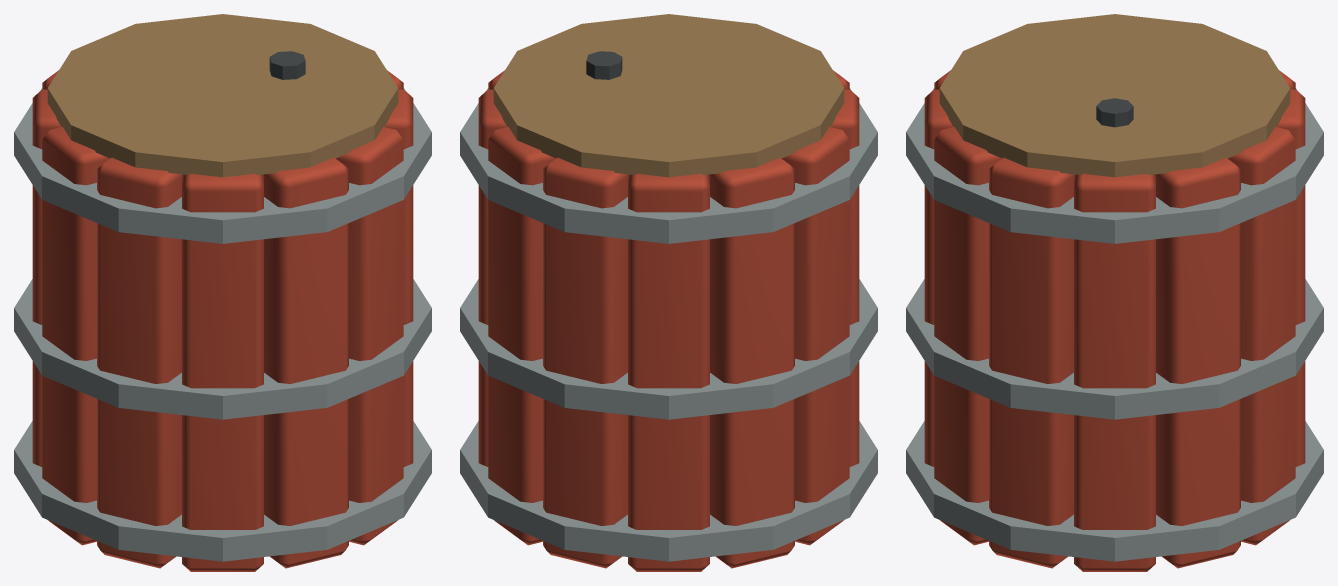
Rendered from prop_oil_barrel.glb.
3 renders of one model, left to right at view 1: azimuth 30°, elevation 25°; view 2: azimuth 150°, elevation 25°; view 3: azimuth 270°, elevation 25°, orthographic.
Parts seen in each view (by area): view 1: barrel lid, painted stave.007, painted stave.009, painted stave.008, painted stave.006, painted stave.010, iron hoop.002, iron hoop.001, iron hoop, painted stave.005, painted stave.011, bung; view 2: barrel lid, painted stave.003, painted stave.005, painted stave.004, painted stave.002, painted stave.006, iron hoop.002, iron hoop.001, iron hoop, painted stave.001, painted stave.007, bung; view 3: barrel lid, painted stave.001, painted stave.011, painted stave, painted stave.002, painted stave.010, iron hoop.002, iron hoop.001, iron hoop, painted stave.003, painted stave.009, bung.
Part boxes in pixels (x1=…): barrel lid: x1=47, y1=14, x2=398, y2=177; painted stave.007: x1=97, y1=157, x2=182, y2=568; painted stave.009: x1=263, y1=157, x2=348, y2=568; painted stave.008: x1=182, y1=173, x2=263, y2=571; painted stave.006: x1=42, y1=127, x2=109, y2=545; painted stave.010: x1=336, y1=127, x2=403, y2=545; iron hoop.002: x1=14, y1=88, x2=431, y2=243; iron hoop.001: x1=14, y1=279, x2=431, y2=419; iron hoop: x1=14, y1=421, x2=431, y2=561; painted stave.005: x1=32, y1=89, x2=61, y2=466; painted stave.011: x1=384, y1=89, x2=413, y2=466; bung: x1=269, y1=51, x2=305, y2=79; barrel lid: x1=493, y1=14, x2=844, y2=177; painted stave.003: x1=543, y1=157, x2=628, y2=568; painted stave.005: x1=709, y1=157, x2=794, y2=568; painted stave.004: x1=628, y1=173, x2=709, y2=571; painted stave.002: x1=488, y1=127, x2=555, y2=545; painted stave.006: x1=782, y1=127, x2=849, y2=545; iron hoop.002: x1=460, y1=88, x2=877, y2=243; iron hoop.001: x1=460, y1=279, x2=877, y2=419; iron hoop: x1=460, y1=421, x2=877, y2=561; painted stave.001: x1=478, y1=89, x2=507, y2=466; painted stave.007: x1=830, y1=89, x2=859, y2=466; bung: x1=586, y1=51, x2=622, y2=79; barrel lid: x1=939, y1=14, x2=1290, y2=177; painted stave.001: x1=1155, y1=157, x2=1240, y2=568; painted stave.011: x1=989, y1=157, x2=1074, y2=568; painted stave: x1=1074, y1=173, x2=1155, y2=571; painted stave.002: x1=1228, y1=127, x2=1295, y2=545; painted stave.010: x1=934, y1=127, x2=1001, y2=545; iron hoop.002: x1=906, y1=88, x2=1323, y2=243; iron hoop.001: x1=906, y1=279, x2=1323, y2=419; iron hoop: x1=906, y1=421, x2=1323, y2=561; painted stave.003: x1=1276, y1=89, x2=1305, y2=466; painted stave.009: x1=924, y1=89, x2=953, y2=466; bung: x1=1096, y1=98, x2=1133, y2=127.
Bounding box in the file's own units: 0.56 × 0.6225 × 0.56.
